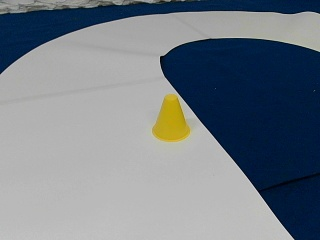cone: (153, 95, 190, 140)
